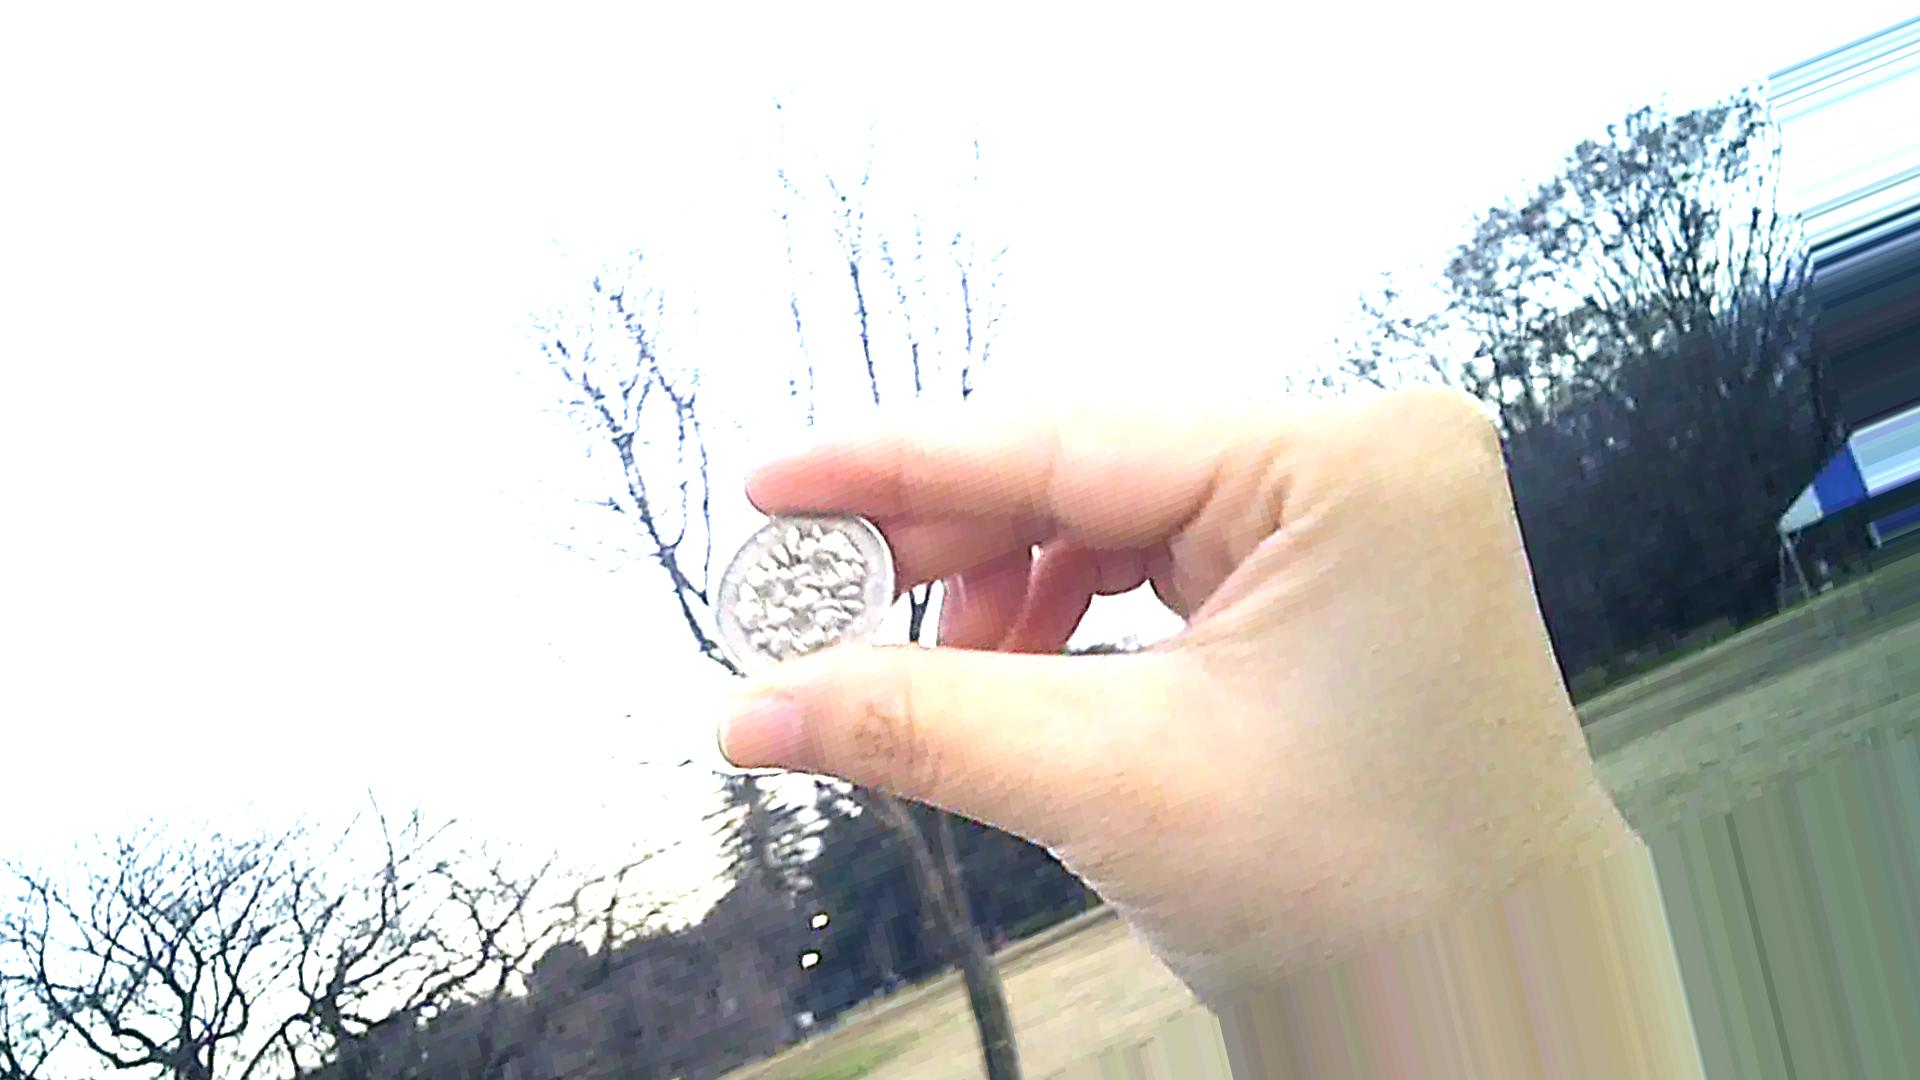100 Yen: (698, 508, 915, 678)
